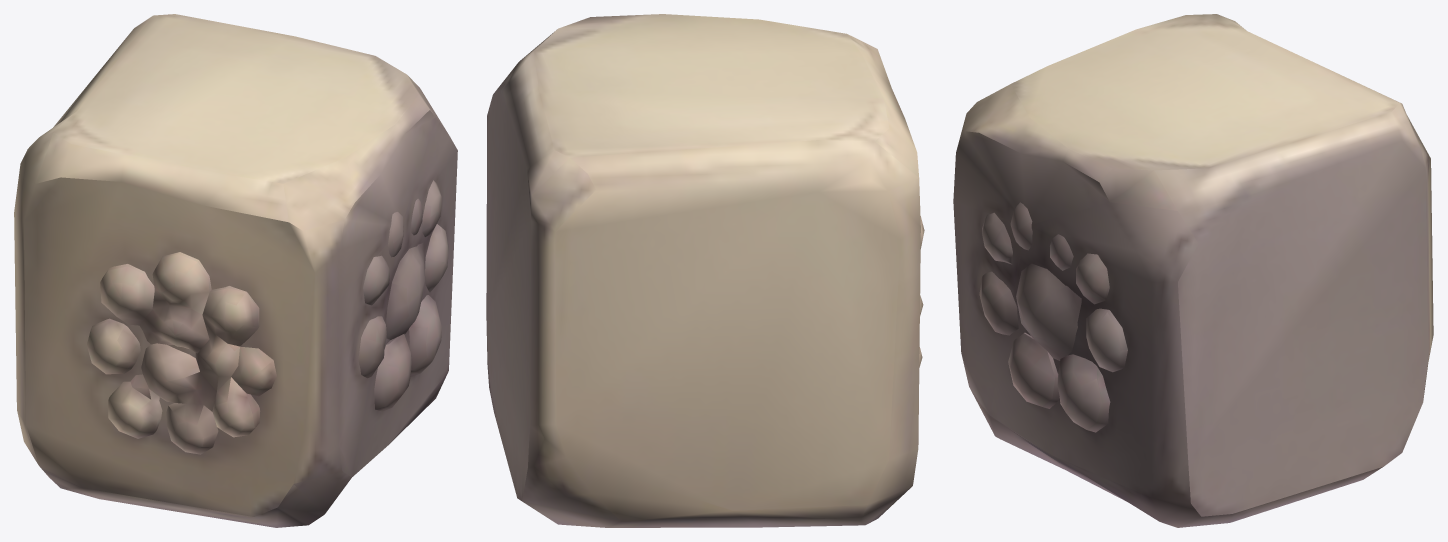
Rendered from SM_RuinRosetteBlock_01.fbx.
The picture shows the model from 3 angles, left to right: view 1: azimuth 30°, elevation 25°; view 2: azimuth 150°, elevation 25°; view 3: azimuth 270°, elevation 25°; orthographic projection. The views are drawn at different scales.
Parts seen in each view (by area): view 1: SM_RuinRosetteBlock_01; view 2: SM_RuinRosetteBlock_01; view 3: SM_RuinRosetteBlock_01.
Boxes of the visible parts, <box> form: SM_RuinRosetteBlock_01: <box>14,14,457,527</box>; SM_RuinRosetteBlock_01: <box>486,14,924,527</box>; SM_RuinRosetteBlock_01: <box>953,14,1433,527</box>.
Size of the model in its own units: 32.83 by 27.12 by 32.83.
Materials: 1 (1 with a texture image).
